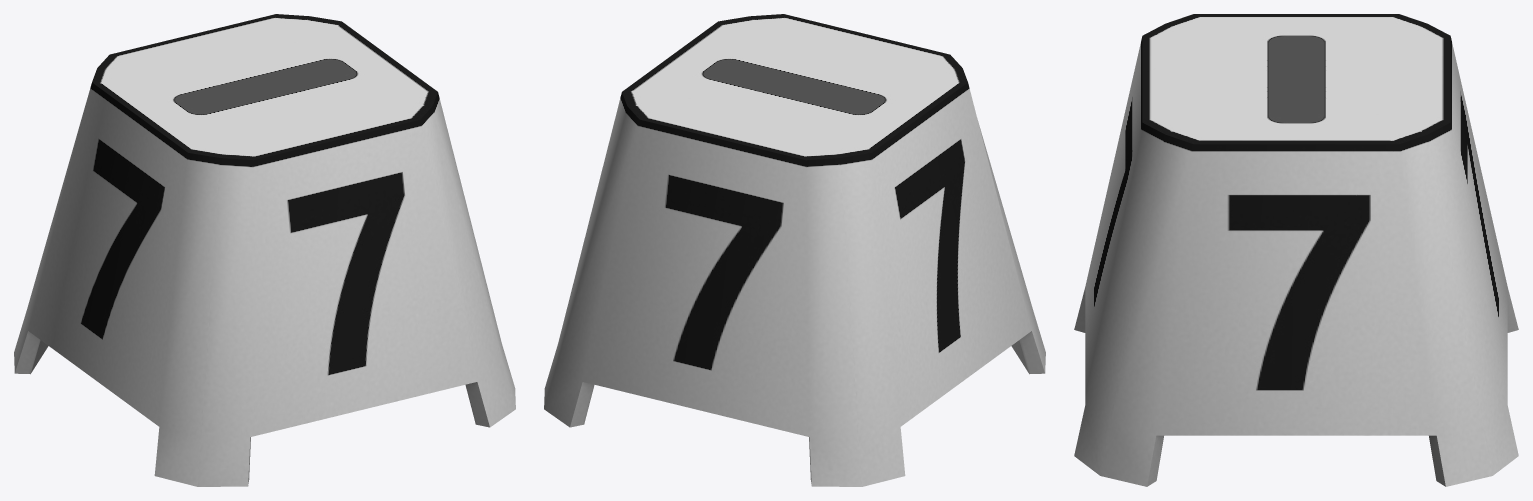
The picture shows the model from 3 angles, left to right: view 1: azimuth 30°, elevation 25°; view 2: azimuth 150°, elevation 25°; view 3: azimuth 270°, elevation 25°; orthographic projection. The views are drawn at different scales.
Parts seen in each view (by area): view 1: No_7_Box; view 2: No_7_Box; view 3: No_7_Box.
Part boxes in pixels (left/top/right/bottom): No_7_Box: left=14, top=14, right=515, bottom=486; No_7_Box: left=544, top=14, right=1045, bottom=486; No_7_Box: left=1074, top=14, right=1518, bottom=486.
Bounding box in the file's own units: 0.4097 × 0.319 × 0.4097.
1 material, 1 textured.
